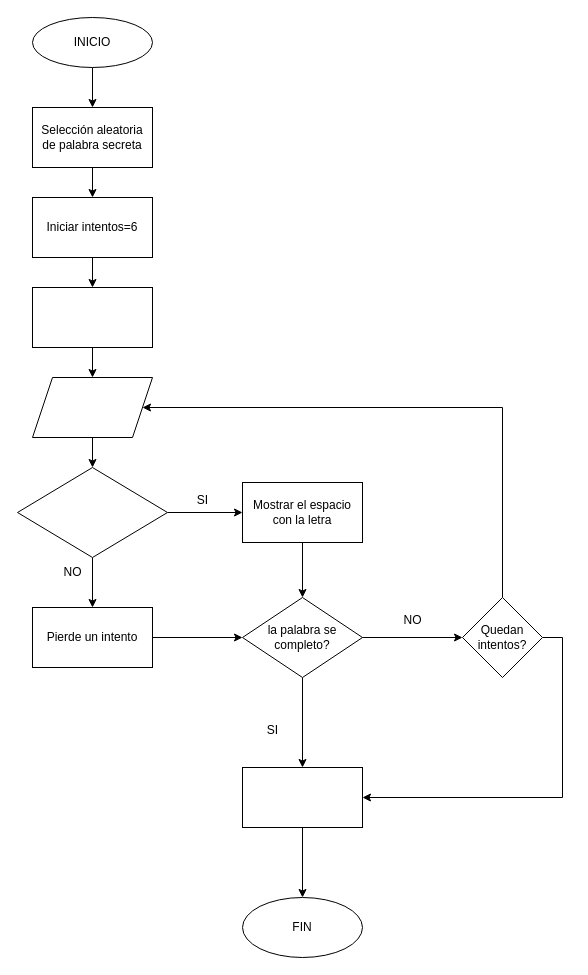
Image size: 588x975. Some labels were removed from this diagram. The shapes that lost their labels are listed below. From the top down, each one's centre as x and y in pixels, then its label:
At point 92,317: "Ocultar palabra secreta con guiones".
At point 92,407: "Ingresa letra el jugador".
At point 92,512: "La letra se encuentra en la palabra?".
At point 302,797: "Mostrar la palabra secreta".
